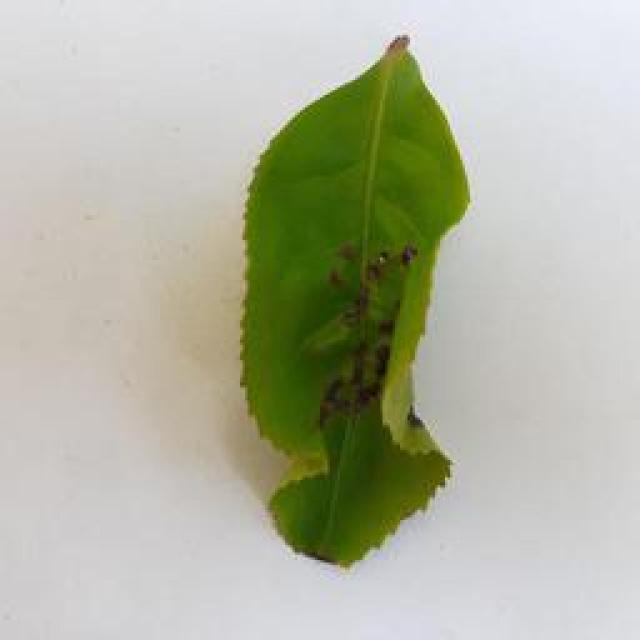Helopeltis: (218, 24, 494, 579)
